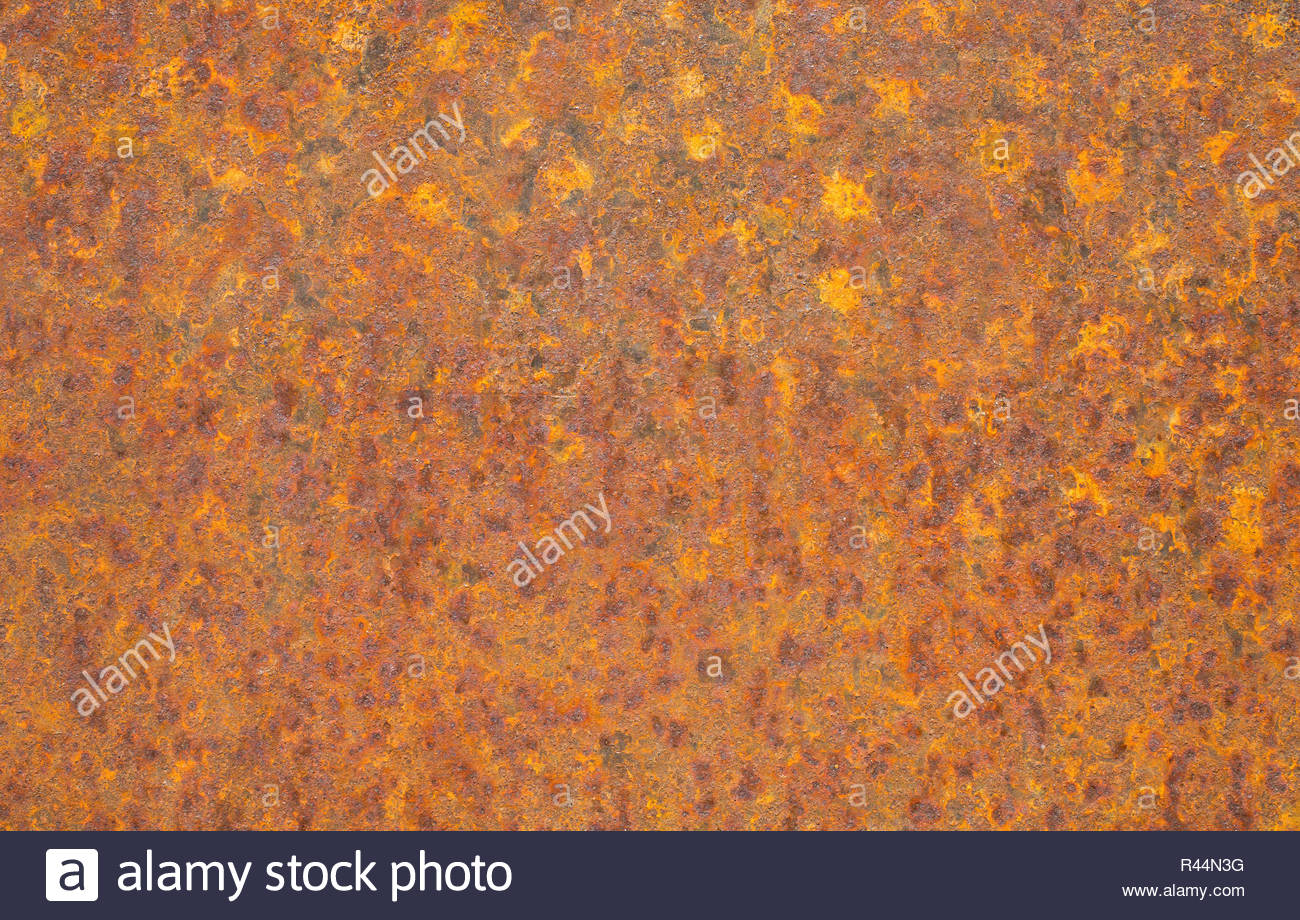rust: (5, 2, 1300, 827)
